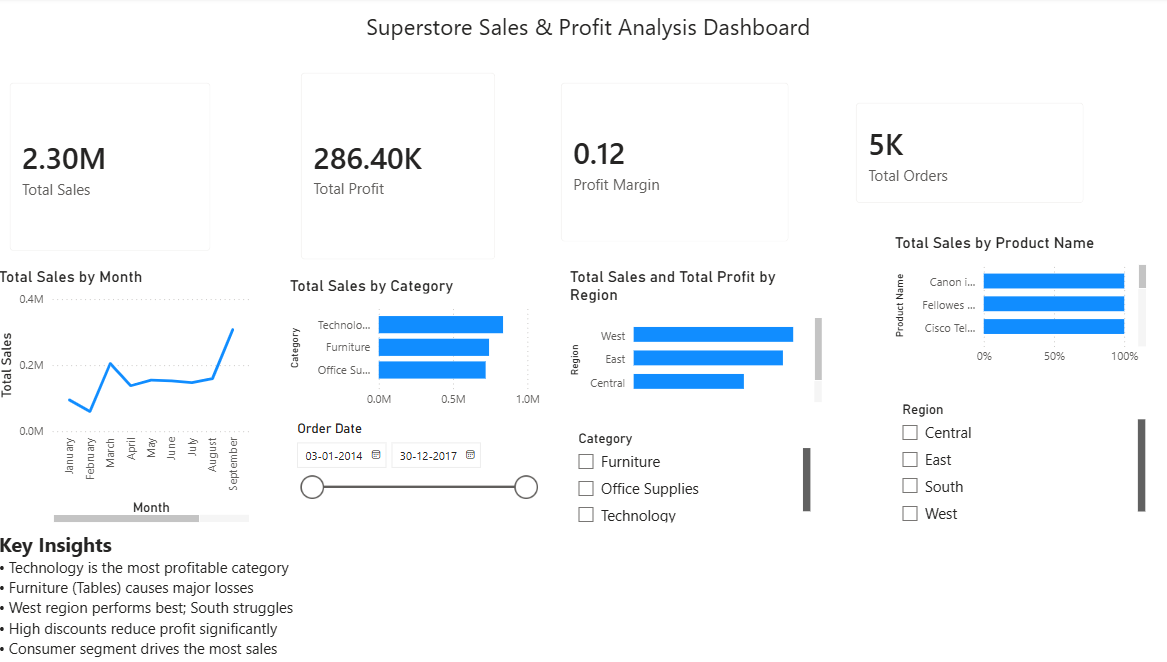

What the dashboard file says about the page in this screenshot:
{"tool":"powerbi","page":{"name":"Page 1","canvas":[1280,720],"ordinal":0},"visuals":[{"type":"cardVisual","fields":{"Data":["Superstore xls.Total Sales"]},"box":[0,75.3,250.1,215.2],"z":0},{"type":"cardVisual","fields":{"Data":["Superstore xls.Total Profit"]},"box":[313.3,64.6,243.4,235.3],"z":1000},{"type":"cardVisual","fields":{"Data":["Superstore xls.Total Orders"]},"box":[910.4,96.8,279.7,142.6],"z":2000},{"type":"cardVisual","fields":{"Data":["Superstore xls.Profit Margin"]},"box":[593.1,75.3,279.7,205.8],"z":3000},{"type":"lineChart","fields":{"Y":["Superstore xls.Total Sales"],"Category":["Superstore xls.Order Date.Variation.Date Hierarchy.Month"]},"box":[0,290.5,279.7,279.7],"z":4000},{"type":"clusteredBarChart","fields":{"Y":["Superstore xls.Total Sales"],"Category":["Superstore xls.Category"]},"box":[313.3,299.9,279.7,150.6],"z":5000},{"type":"barChart","fields":{"Y":["Superstore xls.Total Sales"],"Category":["Superstore xls.Region"]},"box":[614.6,290.5,281.1,150.6],"z":6000},{"type":"hundredPercentStackedBarChart","fields":{"Y":["Superstore xls.Total Sales"],"Category":["Superstore xls.Product Name"]},"box":[964.7,253.9,279.9,150.9],"z":7000},{"type":"slicer","fields":{"Values":["Superstore xls.Order Date"]},"box":[313.3,450.5,279.7,150.6],"z":8000},{"type":"slicer","fields":{"Values":["Superstore xls.Category"]},"box":[615.9,461.3,267.6,108.9],"z":9000},{"type":"slicer","fields":{"Values":["Superstore xls.Region"]},"box":[964.2,430.3,279.7,139.9],"z":10000},{"type":"textbox","box":[0,568.9,453.2,152],"z":11000},{"type":"textbox","box":[395.4,10.8,654.9,53.8],"z":12000}]}

Visuals, with their boxes in screenshot pixels (x1, y1, x2, y2), scaled from the page's 1280x720 canvas onto the 1167x662 screenshot:
cardVisual - Superstore xls.Total Sales: Rect(0, 69, 228, 267)
cardVisual - Superstore xls.Total Profit: Rect(286, 59, 508, 276)
cardVisual - Superstore xls.Total Orders: Rect(830, 89, 1085, 220)
cardVisual - Superstore xls.Profit Margin: Rect(541, 69, 796, 258)
lineChart - Superstore xls.Total Sales x Superstore xls.Order Date.Variation.Date Hierarchy.Month: Rect(0, 267, 255, 524)
clusteredBarChart - Superstore xls.Total Sales x Superstore xls.Category: Rect(286, 276, 541, 414)
barChart - Superstore xls.Total Sales x Superstore xls.Region: Rect(560, 267, 817, 406)
hundredPercentStackedBarChart - Superstore xls.Total Sales x Superstore xls.Product Name: Rect(880, 233, 1135, 372)
slicer - Superstore xls.Order Date: Rect(286, 414, 541, 553)
slicer - Superstore xls.Category: Rect(562, 424, 806, 524)
slicer - Superstore xls.Region: Rect(879, 396, 1134, 524)
textbox: Rect(0, 523, 413, 661)
textbox: Rect(360, 10, 958, 59)
